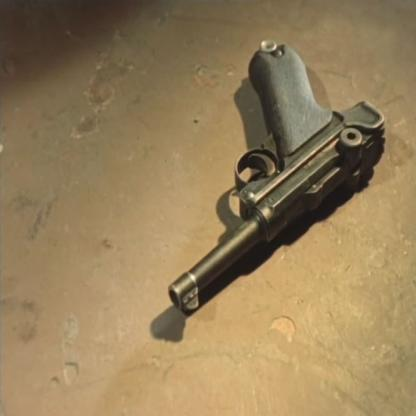gun: (124, 8, 402, 315)
